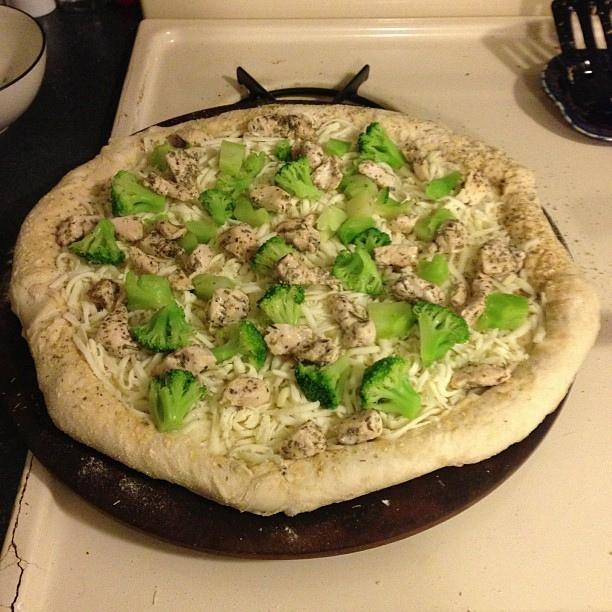broccoli: (359, 353, 422, 418), (410, 301, 469, 368), (149, 368, 206, 432), (331, 238, 386, 296), (346, 122, 405, 176), (210, 320, 268, 373), (130, 301, 190, 352), (296, 356, 350, 410), (110, 170, 166, 217), (68, 219, 124, 265), (470, 292, 529, 334), (216, 151, 266, 200), (368, 300, 418, 346), (255, 281, 306, 326), (274, 156, 324, 201), (125, 271, 172, 310), (252, 236, 297, 276), (414, 208, 456, 243), (198, 189, 236, 226), (191, 273, 237, 301), (336, 215, 376, 245), (232, 194, 269, 226), (424, 170, 464, 199), (336, 174, 378, 200), (416, 254, 449, 284), (220, 140, 245, 178), (315, 204, 348, 232), (149, 140, 177, 171), (345, 190, 376, 217), (184, 220, 218, 243), (176, 231, 198, 256), (326, 138, 353, 158), (275, 139, 293, 162), (374, 186, 390, 208)
